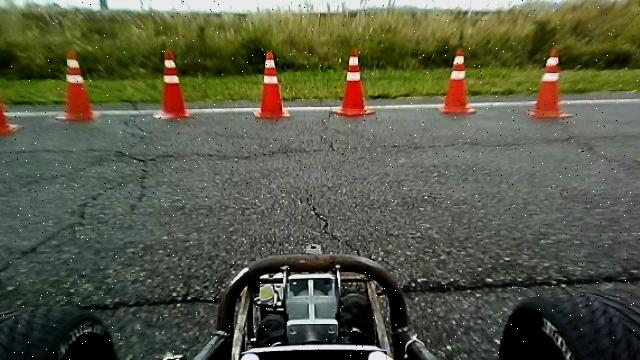red cone: (54, 49, 98, 122), (528, 47, 573, 118), (330, 47, 376, 115), (152, 49, 190, 120), (252, 48, 290, 118), (438, 47, 476, 114), (0, 55, 21, 136)
